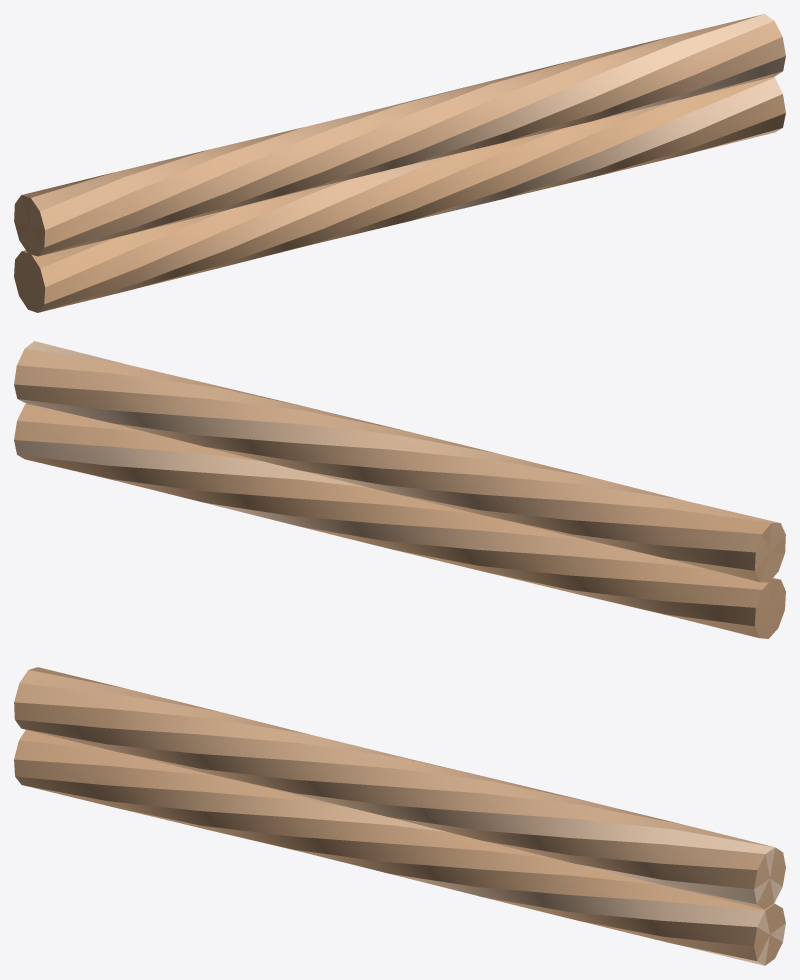
File: WallThirdSide_whole.fbx
3 renders of one model, top to bottom at view 1: azimuth 30°, elevation 25°; view 2: azimuth 150°, elevation 25°; view 3: azimuth 330°, elevation 25°, orthographic.
Visible parts, largest first — view 1: g_wall16; view 2: g_wall16; view 3: g_wall16.
Part boxes in pixels (x1,y1,x2,y2): g_wall16: (14, 14, 785, 312); g_wall16: (14, 341, 785, 638); g_wall16: (14, 667, 785, 965).
Bounding box in the file's own units: 4.96 × 0.7309 × 0.3705.
